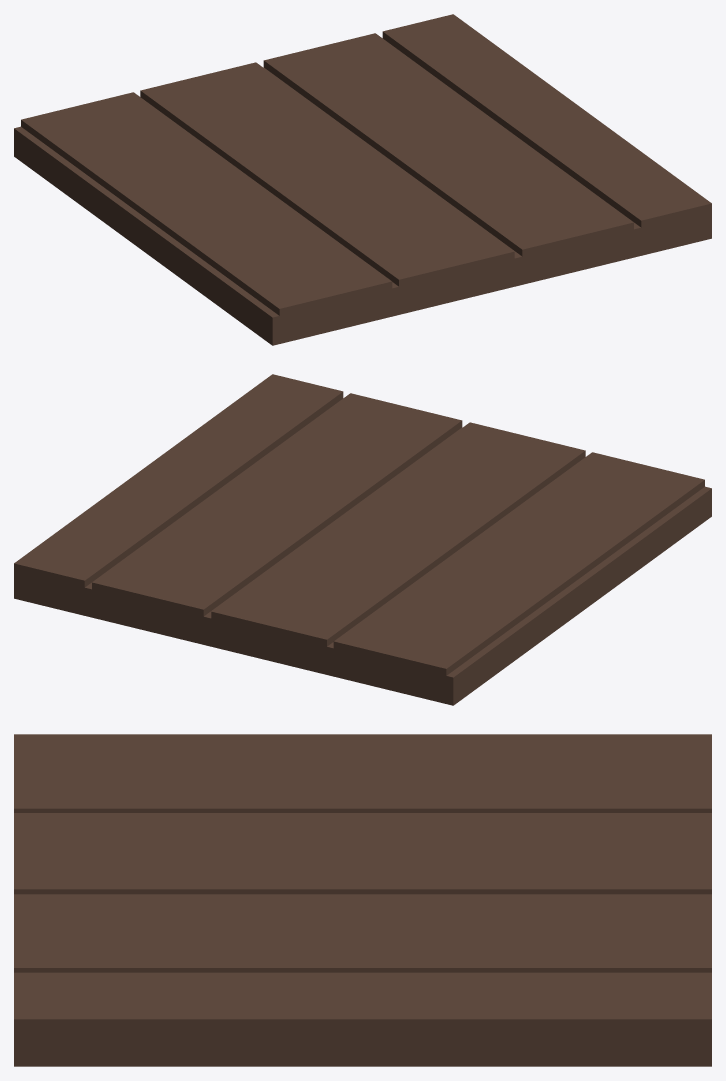
File: sol angle rdc.FBX
3 views of the same model, one above another, from view 1: azimuth 30°, elevation 25°; view 2: azimuth 150°, elevation 25°; view 3: azimuth 270°, elevation 25° (orthographic). The views are drawn at different scales.
Parts seen in each view (by area): view 1: sol angle rdc; view 2: sol angle rdc; view 3: sol angle rdc.
Boxes of the visible parts, x1,y1,x2,y2 form: sol angle rdc: (14, 14, 711, 345); sol angle rdc: (14, 374, 711, 705); sol angle rdc: (14, 734, 711, 1066).
Bounding box in the file's own units: 99.25 × 7.6 × 101.
Materials: 1 (1 with a texture image).
